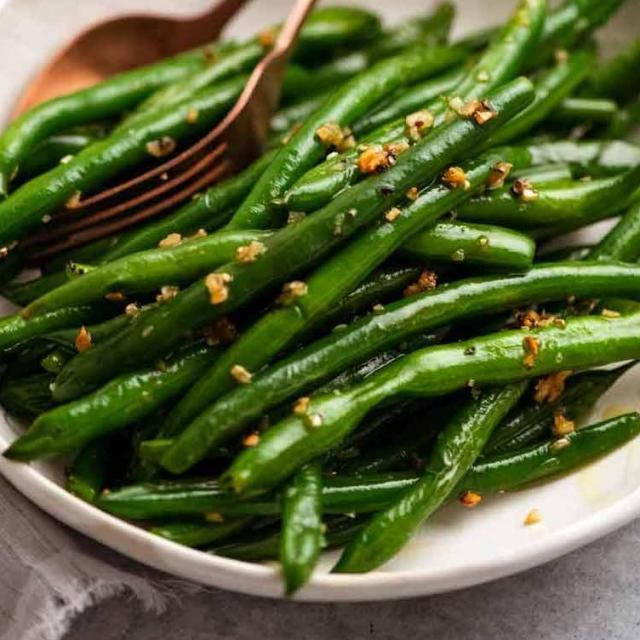Beans: (0, 0, 639, 591)
